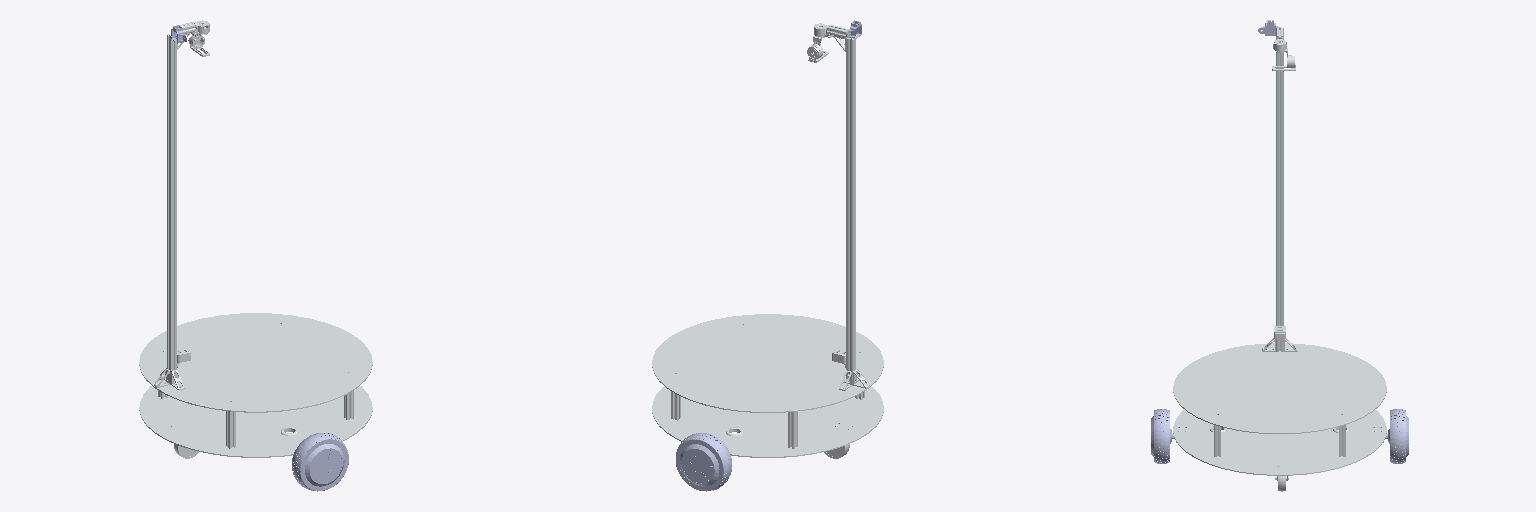
The robot description file, URDF, robot "boris_description":
<?xml version="1.0" encoding="utf-8"?>
<!-- This URDF was automatically created by SolidWorks to URDF Exporter! Originally created by [author] ([email redacted]) 
     Commit Version: 1.5.1-0-g916b5db  Build Version: 1.5.7152.31018
     For more information, please see http://wiki.ros.org/sw_urdf_exporter -->
<robot
  name="boris_description">
  <link
    name="base_link">
    <inertial>
      <origin
        xyz="-0.022939618276426 0.000126889427596712 0.114856317470281"
        rpy="0 0 0" />
      <mass
        value="6.25092338139406" />
      <inertia
        ixx="0.157012634394671"
        ixy="4.17420320914166E-07"
        ixz="-1.16452308907686E-06"
        iyy="0.157875862434322"
        iyz="-3.92278672942607E-08"
        izz="0.231739535357394" />
    </inertial>
    <visual>
      <origin
        xyz="0 0 0"
        rpy="0 0 0" />
      <geometry>
        <mesh
          filename="package://boris_description/meshes/base_link.STL" />
      </geometry>
      <material
        name="">
        <color
          rgba="0.898039215686275 0.917647058823529 0.929411764705882 1" />
      </material>
    </visual>
    <collision>
      <origin
        xyz="0 0 0"
        rpy="0 0 0" />
      <geometry>
        <mesh
          filename="package://boris_description/meshes/base_link.STL" />
      </geometry>
    </collision>
  </link>
  <link
    name="left_wheel_link">
    <inertial>
      <origin
        xyz="0.0298553485818144 -7.38981511210325E-14 -7.28085556632452E-06"
        rpy="0 0 0" />
      <mass
        value="0.958008587347379" />
      <inertia
        ixx="0.00270268789560969"
        ixy="-1.01480767286744E-14"
        ixz="-3.83317404192863E-07"
        iyy="0.00158533951189093"
        iyz="4.46797081233784E-16"
        izz="0.00158537445467052" />
    </inertial>
    <visual>
      <origin
        xyz="0 0 0"
        rpy="0 0 0" />
      <geometry>
        <mesh
          filename="package://boris_description/meshes/left_wheel_link.STL" />
      </geometry>
      <material
        name="">
        <color
          rgba="0.792156862745098 0.819607843137255 0.933333333333333 1" />
      </material>
    </visual>
    <collision>
      <origin
        xyz="0 0 0"
        rpy="0 0 0" />
      <geometry>
        <mesh
          filename="package://boris_description/meshes/left_wheel_link.STL" />
      </geometry>
    </collision>
  </link>
  <joint
    name="left_wheel_joint"
    type="continuous">
    <origin
      xyz="-1.02E-05 0.3074 -0.017901"
      rpy="-3.1416 0 1.5708" />
    <parent
      link="base_link" />
    <child
      link="left_wheel_link" />
    <axis
      xyz="1 0 0" />
  </joint>
  <link
    name="right_wheel_link">
    <inertial>
      <origin
        xyz="0.0298553485818144 -7.38470377648634E-14 -7.28085556632105E-06"
        rpy="0 0 0" />
      <mass
        value="0.958008587347379" />
      <inertia
        ixx="0.0027026878956097"
        ixy="-1.01473571864158E-14"
        ixz="-3.83317404192777E-07"
        iyy="0.00158533951189094"
        iyz="4.49362472967403E-16"
        izz="0.00158537445467052" />
    </inertial>
    <visual>
      <origin
        xyz="0 0 0"
        rpy="0 0 0" />
      <geometry>
        <mesh
          filename="package://boris_description/meshes/right_wheel_link.STL" />
      </geometry>
      <material
        name="">
        <color
          rgba="0.792156862745098 0.819607843137255 0.933333333333333 1" />
      </material>
    </visual>
    <collision>
      <origin
        xyz="0 0 0"
        rpy="0 0 0" />
      <geometry>
        <mesh
          filename="package://boris_description/meshes/right_wheel_link.STL" />
      </geometry>
    </collision>
  </link>
  <joint
    name="right_wheel_joint"
    type="continuous">
    <origin
      xyz="-1.02E-05 -0.3074 -0.017901"
      rpy="3.1416 0 -1.5708" />
    <parent
      link="base_link" />
    <child
      link="right_wheel_link" />
    <axis
      xyz="1 0 0" />
  </joint>
  <link
    name="gps_link">
    <inertial>
      <origin
        xyz="0.000141607368226923 0.00578560617441407 0.00352975276544121"
        rpy="0 0 0" />
      <mass
        value="0.00810471227426635" />
      <inertia
        ixx="1.3563972967208E-06"
        ixy="7.66231332658889E-09"
        ixz="1.5842654379685E-08"
        iyy="2.87742203534793E-06"
        iyz="-7.73428856817732E-08"
        izz="2.04449877493056E-06" />
    </inertial>
    <visual>
      <origin
        xyz="0 0 0"
        rpy="0 0 0" />
      <geometry>
        <mesh
          filename="package://boris_description/meshes/gps_link.STL" />
      </geometry>
      <material
        name="">
        <color
          rgba="0.792156862745098 0.819607843137255 0.933333333333333 1" />
      </material>
    </visual>
    <collision>
      <origin
        xyz="0 0 0"
        rpy="0 0 0" />
      <geometry>
        <mesh
          filename="package://boris_description/meshes/gps_link.STL" />
      </geometry>
    </collision>
  </link>
  <joint
    name="gps_joint"
    type="fixed">
    <origin
      xyz="-0.24281 -0.026225 1.1433"
      rpy="0 0 1.5708" />
    <parent
      link="base_link" />
    <child
      link="gps_link" />
    <axis
      xyz="0 0 0" />
  </joint>
  <link
    name="imu">
    <inertial>
      <origin
        xyz="0.0128931247706793 0.00106324875441682 -0.0102654300276027"
        rpy="0 0 0" />
      <mass
        value="0.000983130183652036" />
      <inertia
        ixx="2.72780814792229E-08"
        ixy="-1.83135757569056E-11"
        ixz="-1.8646371535333E-11"
        iyy="7.48563776021963E-08"
        iyz="1.81575171893248E-12"
        izz="4.80453464098757E-08" />
    </inertial>
    <visual>
      <origin
        xyz="0 0 0"
        rpy="0 0 0" />
      <geometry>
        <mesh
          filename="package://boris_description/meshes/imu.STL" />
      </geometry>
      <material
        name="">
        <color
          rgba="0.792156862745098 0.819607843137255 0.933333333333333 1" />
      </material>
    </visual>
    <collision>
      <origin
        xyz="0 0 0"
        rpy="0 0 0" />
      <geometry>
        <mesh
          filename="package://boris_description/meshes/imu.STL" />
      </geometry>
    </collision>
  </link>
  <joint
    name="imu_joint"
    type="fixed">
    <origin
      xyz="-0.21204 -0.013335 0.20085"
      rpy="1.5708 0 1.5708" />
    <parent
      link="base_link" />
    <child
      link="imu" />
    <axis
      xyz="0 0 0" />
  </joint>
  <link
    name="camera_yaw_link">
    <inertial>
      <origin
        xyz="0.0259503164915985 0.0524809585558006 -0.000244707467082439"
        rpy="0 0 0" />
      <mass
        value="0.0236989643956742" />
      <inertia
        ixx="6.18500861568292E-06"
        ixy="-1.15565378682225E-08"
        ixz="2.22920046214975E-08"
        iyy="3.58533094969821E-06"
        iyz="-7.70649063923888E-08"
        izz="4.50633805652113E-06" />
    </inertial>
    <visual>
      <origin
        xyz="0 0 0"
        rpy="0 0 0" />
      <geometry>
        <mesh
          filename="package://boris_description/meshes/camera_yaw_link.STL" />
      </geometry>
      <material
        name="">
        <color
          rgba="0.898039215686275 0.917647058823529 0.929411764705882 1" />
      </material>
    </visual>
    <collision>
      <origin
        xyz="0 0 0"
        rpy="0 0 0" />
      <geometry>
        <mesh
          filename="package://boris_description/meshes/camera_yaw_link.STL" />
      </geometry>
    </collision>
  </link>
  <joint
    name="camera_yaw_joint"
    type="continuous">
    <origin
      xyz="-0.16095 0 1.1464"
      rpy="-1.5708 0 1.5708" />
    <parent
      link="base_link" />
    <child
      link="camera_yaw_link" />
    <axis
      xyz="0 1 0" />
  </joint>
  <link
    name="camera_tilt_link">
    <inertial>
      <origin
        xyz="0.0493199630854666 -0.0173483331606605 9.47173012134095E-05"
        rpy="0 0 0" />
      <mass
        value="0.0136650343598073" />
      <inertia
        ixx="1.44828626038019E-06"
        ixy="-2.08688729262772E-08"
        ixz="-4.90314729830163E-10"
        iyy="5.20651608944564E-06"
        iyz="8.34838762542022E-22"
        izz="4.83945196946744E-06" />
    </inertial>
    <visual>
      <origin
        xyz="0 0 0"
        rpy="0 0 0" />
      <geometry>
        <mesh
          filename="package://boris_description/meshes/camera_tilt_link.STL" />
      </geometry>
      <material
        name="">
        <color
          rgba="0.898039215686275 0.917647058823529 0.929411764705882 1" />
      </material>
    </visual>
    <collision>
      <origin
        xyz="0 0 0"
        rpy="0 0 0" />
      <geometry>
        <mesh
          filename="package://boris_description/meshes/camera_tilt_link.STL" />
      </geometry>
    </collision>
  </link>
  <joint
    name="camera_tilt_joint"
    type="continuous">
    <origin
      xyz="0.041323 0.061915 0"
      rpy="0 0 3.1416" />
    <parent
      link="camera_yaw_link" />
    <child
      link="camera_tilt_link" />
    <axis
      xyz="1 0 0" />
  </joint>
  <joint name="camera2_joint" type="fixed">
    <origin
      xyz="0.041323 -0.023823 0"
      rpy="3.1416 1.57079632679 1.57079632679" />
    <parent link="camera_tilt_link" />
    <child link="camera2_bottom_screw_frame" />
    <axis xyz="0 0 0" />
  </joint>
  <link name="camera2_bottom_screw_frame"/>
  <joint name="camera2_link_joint" type="fixed">
    <origin rpy="0 0 0" xyz="0 0.0175 0.0125"/>
    <parent link="camera2_bottom_screw_frame"/>
    <child link="camera2_link"/>
  </joint>
  <link name="camera2_link">
    <visual>
      <origin rpy="1.57079632679 0 1.57079632679" xyz="0.0149 -0.0175 0"/>
      <geometry>
        <!-- <box size="${d435_cam_width} ${d435_cam_height} ${d435_cam_depth}"/> -->
        <mesh filename="package://boris_description/meshes/d435.dae"/>
      </geometry>
    </visual>
    <collision>
      <origin rpy="0 0 0" xyz="0 -0.0175 0"/>
      <geometry>
        <box size="0.02505 0.09 0.025"/>
      </geometry>
    </collision>
    <inertial>
      <!-- The following are not reliable values, and should not be used for modeling -->
      <mass value="0.564"/>
      <origin xyz="0 0 0"/>
      <inertia ixx="0.003881243" ixy="0.0" ixz="0.0" iyy="0.000498940" iyz="0.0" izz="0.003879257"/>
    </inertial>
  </link>
  <!-- camera depth joints and links -->
  <joint name="camera2_depth_joint" type="fixed">
    <origin rpy="0 0 0" xyz="0 0 0"/>
    <parent link="camera2_link"/>
    <child link="camera2_depth_frame"/>
  </joint>
  <link name="camera2_depth_frame"/>
  <joint name="camera2_depth_optical_joint" type="fixed">
    <origin rpy="-1.57079632679 0 -1.57079632679" xyz="0 0 0"/>
    <parent link="camera2_depth_frame"/>
    <child link="camera2_depth_optical_frame"/>
  </joint>
  <link name="camera2_depth_optical_frame"/>
  <!-- camera left IR joints and links -->
  <joint name="camera2_infra1_joint" type="fixed">
    <origin rpy="0 0 0" xyz="0 0.0 0"/>
    <parent link="camera2_link"/>
    <child link="camera2_infra1_frame"/>
  </joint>
  <link name="camera2_infra1_frame"/>
  <joint name="camera2_infra1_optical_joint" type="fixed">
    <origin rpy="-1.57079632679 0 -1.57079632679" xyz="0 0 0"/>
    <parent link="camera2_infra1_frame"/>
    <child link="camera2_infra1_optical_frame"/>
  </joint>
  <link name="camera2_infra1_optical_frame"/>
  <!-- camera right IR joints and links -->
  <joint name="camera2_infra2_joint" type="fixed">
    <origin rpy="0 0 0" xyz="0 -0.05 0"/>
    <parent link="camera2_link"/>
    <child link="camera2_infra2_frame"/>
  </joint>
  <link name="camera2_infra2_frame"/>
  <joint name="camera2_infra2_optical_joint" type="fixed">
    <origin rpy="-1.57079632679 0 -1.57079632679" xyz="0 0 0"/>
    <parent link="camera2_infra2_frame"/>
    <child link="camera2_infra2_optical_frame"/>
  </joint>
  <link name="camera2_infra2_optical_frame"/>
  <!-- camera color joints and links -->
  <joint name="camera2_color_joint" type="fixed">
    <origin rpy="0 0 0" xyz="0 0.015 0"/>
    <parent link="camera2_link"/>
    <child link="camera2_color_frame"/>
  </joint>
  <link name="camera2_color_frame"/>
  <joint name="camera2_color_optical_joint" type="fixed">
    <origin rpy="-1.57079632679 0 -1.57079632679" xyz="0 0 0"/>
    <parent link="camera2_color_frame"/>
    <child link="camera2_color_optical_frame"/>
  </joint>
  <link name="camera2_color_optical_frame"/>
  <joint name="camera_joint" type="fixed">
    <origin
      xyz="0.304800000000025 0 0.117675"
      rpy="-1.5707963267949 0 -1.5707963267949" />
    <parent link="base_link" />
    <child link="camera_bottom_screw_frame" />
    <axis xyz="0 0 0" />
  </joint>
  <link name="camera_bottom_screw_frame"/>
  <joint name="camera_link_joint" type="fixed">
    <origin rpy="0 0 0" xyz="0 0.0175 0.0125"/>
    <parent link="camera_bottom_screw_frame"/>
    <child link="camera_link"/>
  </joint>
  <link name="camera_link">
    <visual>
      <origin rpy="1.57079632679 0 1.57079632679" xyz="0.0149 -0.0175 0"/>
      <geometry>
        <!-- <box size="${d435_cam_width} ${d435_cam_height} ${d435_cam_depth}"/> -->
        <mesh filename="package://boris_description/meshes/d435.dae"/>
      </geometry>
    </visual>
    <collision>
      <origin rpy="0 0 0" xyz="0 -0.0175 0"/>
      <geometry>
        <box size="0.02505 0.09 0.025"/>
      </geometry>
    </collision>
    <inertial>
      <!-- The following are not reliable values, and should not be used for modeling -->
      <mass value="0.564"/>
      <origin xyz="0 0 0"/>
      <inertia ixx="0.003881243" ixy="0.0" ixz="0.0" iyy="0.000498940" iyz="0.0" izz="0.003879257"/>
    </inertial>
  </link>
  <!-- camera depth joints and links -->
  <joint name="camera_depth_joint" type="fixed">
    <origin rpy="0 0 0" xyz="0 0 0"/>
    <parent link="camera_link"/>
    <child link="camera_depth_frame"/>
  </joint>
  <link name="camera_depth_frame"/>
  <joint name="camera_depth_optical_joint" type="fixed">
    <origin rpy="-1.57079632679 0 -1.57079632679" xyz="0 0 0"/>
    <parent link="camera_depth_frame"/>
    <child link="camera_depth_optical_frame"/>
  </joint>
  <link name="camera_depth_optical_frame"/>
  <!-- camera left IR joints and links -->
  <joint name="camera_infra1_joint" type="fixed">
    <origin rpy="0 0 0" xyz="0 0.0 0"/>
    <parent link="camera_link"/>
    <child link="camera_infra1_frame"/>
  </joint>
  <link name="camera_infra1_frame"/>
  <joint name="camera_infra1_optical_joint" type="fixed">
    <origin rpy="-1.57079632679 0 -1.57079632679" xyz="0 0 0"/>
    <parent link="camera_infra1_frame"/>
    <child link="camera_infra1_optical_frame"/>
  </joint>
  <link name="camera_infra1_optical_frame"/>
  <!-- camera right IR joints and links -->
  <joint name="camera_infra2_joint" type="fixed">
    <origin rpy="0 0 0" xyz="0 -0.05 0"/>
    <parent link="camera_link"/>
    <child link="camera_infra2_frame"/>
  </joint>
  <link name="camera_infra2_frame"/>
  <joint name="camera_infra2_optical_joint" type="fixed">
    <origin rpy="-1.57079632679 0 -1.57079632679" xyz="0 0 0"/>
    <parent link="camera_infra2_frame"/>
    <child link="camera_infra2_optical_frame"/>
  </joint>
  <link name="camera_infra2_optical_frame"/>
  <!-- camera color joints and links -->
  <joint name="camera_color_joint" type="fixed">
    <origin rpy="0 0 0" xyz="0 0.015 0"/>
    <parent link="camera_link"/>
    <child link="camera_color_frame"/>
  </joint>
  <link name="camera_color_frame"/>
  <joint name="camera_color_optical_joint" type="fixed">
    <origin rpy="-1.57079632679 0 -1.57079632679" xyz="0 0 0"/>
    <parent link="camera_color_frame"/>
    <child link="camera_color_optical_frame"/>
  </joint>
  <link name="camera_color_optical_frame"/>
</robot>

--- Render facts (derived) ---
3 views of the same robot in one strip: view 1: azimuth 30°, elevation 25°; view 2: azimuth 150°, elevation 25°; view 3: azimuth 270°, elevation 25° (orthographic).
Robot: boris_description — 27 links, 26 joints (4 continuous, 22 fixed); root link base_link; default pose: all joints at 0.
Visible links, largest first — view 1: base_link, right_wheel_link; view 2: base_link, left_wheel_link; view 3: base_link, left_wheel_link, right_wheel_link.
Link boxes in pixels (left/top/right/bottom): base_link: left=139, top=20, right=372, bottom=458; right_wheel_link: left=292, top=433, right=348, bottom=491; base_link: left=652, top=23, right=883, bottom=458; left_wheel_link: left=676, top=433, right=731, bottom=491; base_link: left=1173, top=28, right=1386, bottom=491; left_wheel_link: left=1385, top=409, right=1408, bottom=463; right_wheel_link: left=1151, top=409, right=1174, bottom=463.
Size in the robot's own frame: 0.6086 by 0.7348 by 1.26 metres.
7 mesh visuals loaded from 8 distinct referenced files (7 binary STL); not drawn: 2 (reference not matched to a file when rendering).
